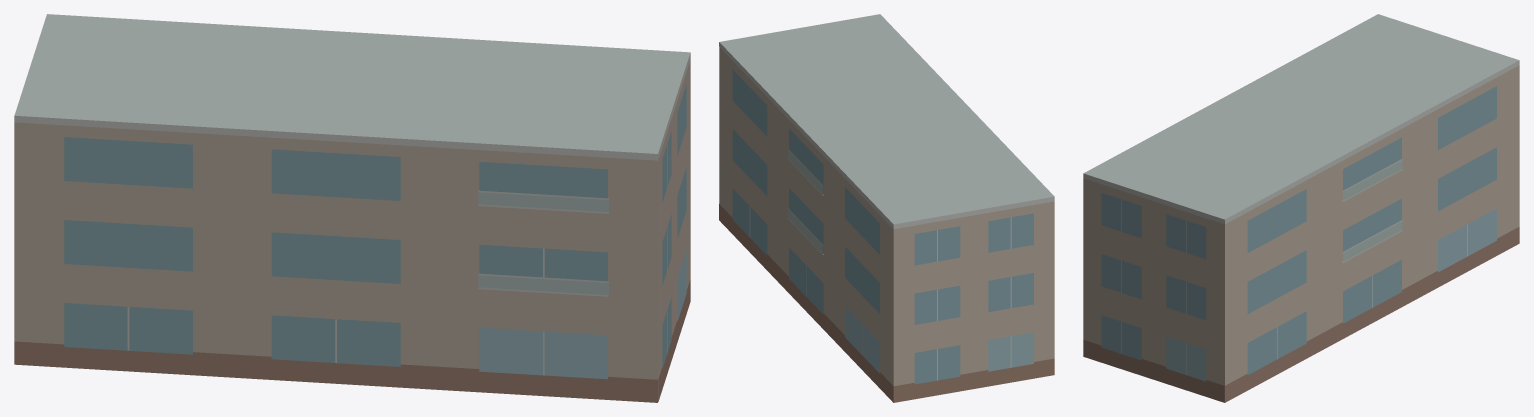
The model's file is survey-upis-32628298.glb.
3 views of the same model, side by side, from view 1: azimuth 30°, elevation 25°; view 2: azimuth 150°, elevation 25°; view 3: azimuth 270°, elevation 25° (orthographic). The views are drawn at different scales.
Visible parts, largest first — view 1: survey-upis-32628298.tmp; view 2: survey-upis-32628298.tmp; view 3: survey-upis-32628298.tmp.
Part boxes in pixels (x1=…): survey-upis-32628298.tmp: x1=14, y1=14, x2=690, y2=402; survey-upis-32628298.tmp: x1=719, y1=14, x2=1054, y2=402; survey-upis-32628298.tmp: x1=1083, y1=14, x2=1519, y2=402.
Size of the model in its own units: 22.02 by 9.15 by 19.75.
